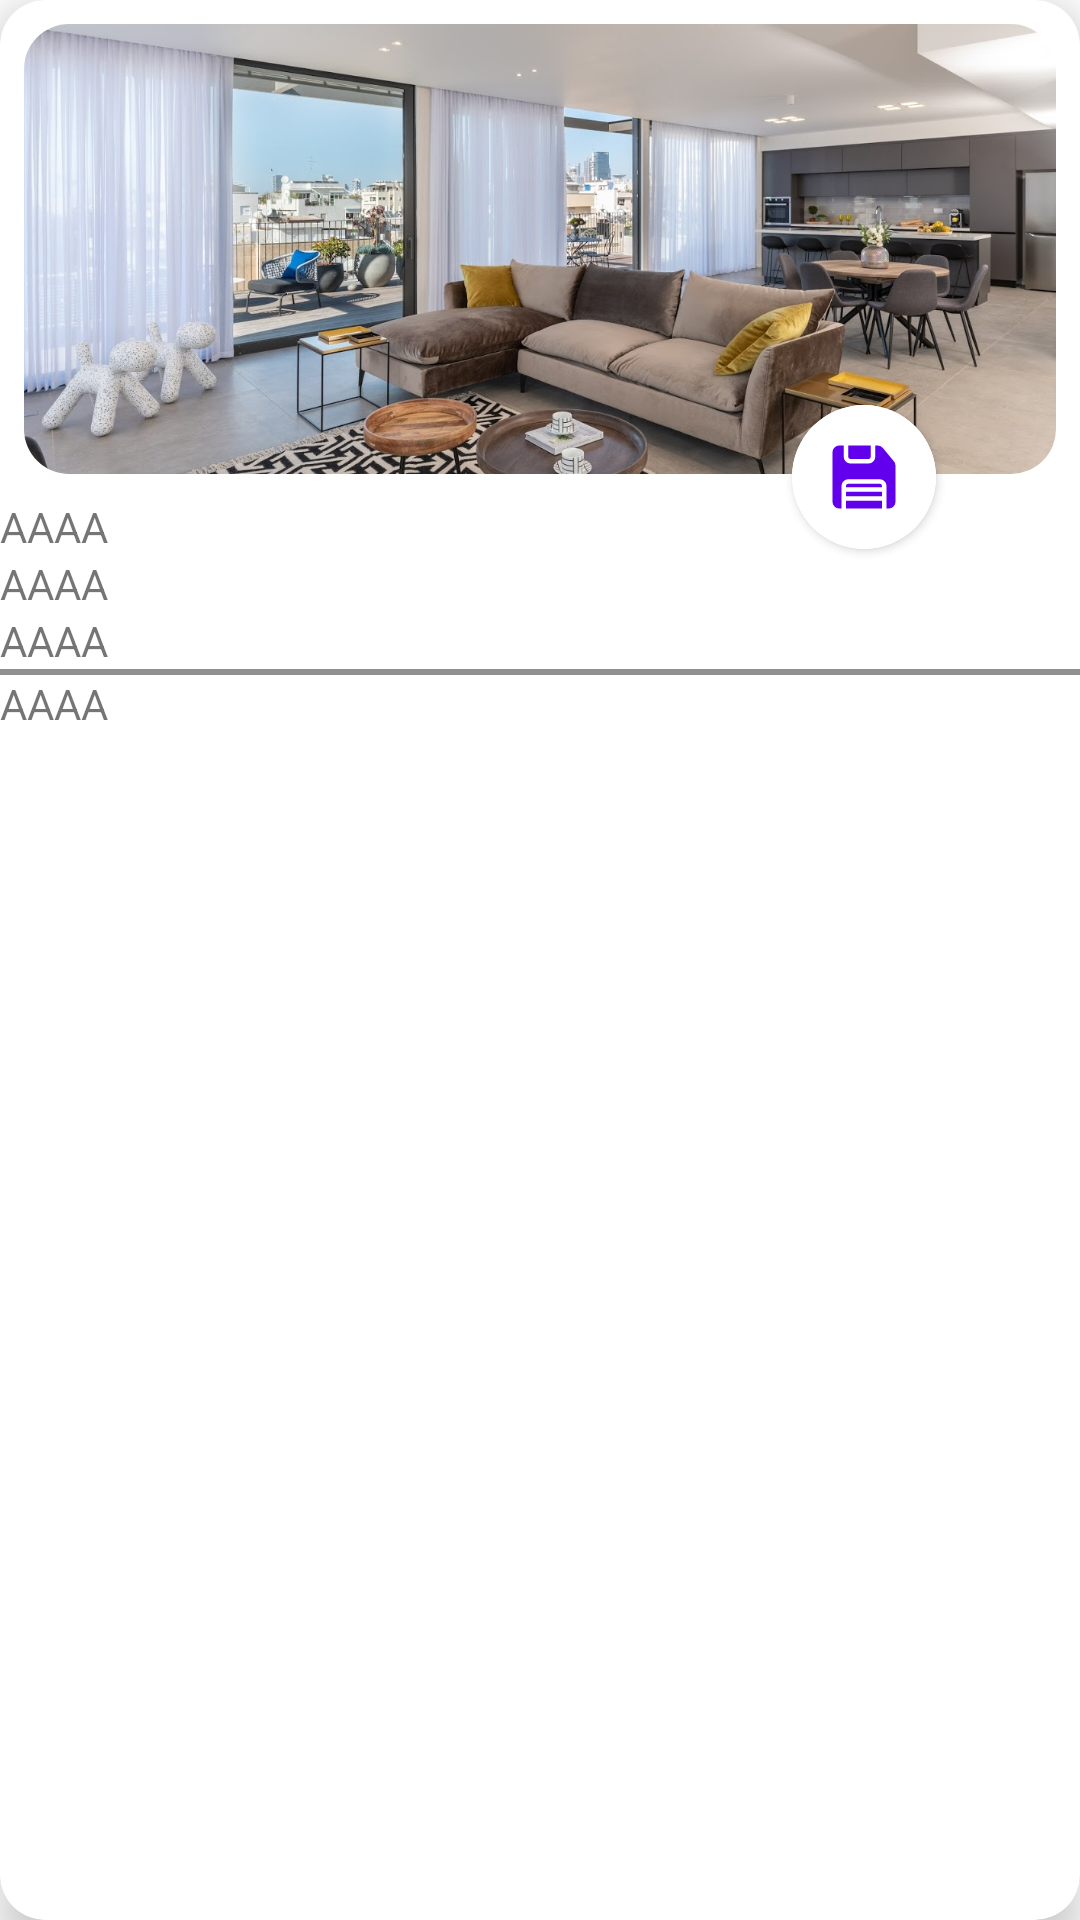

Named icons in this screenshot (1080px×1920px) and their centers, (x=x, y=y):
save: (x=864, y=477)
